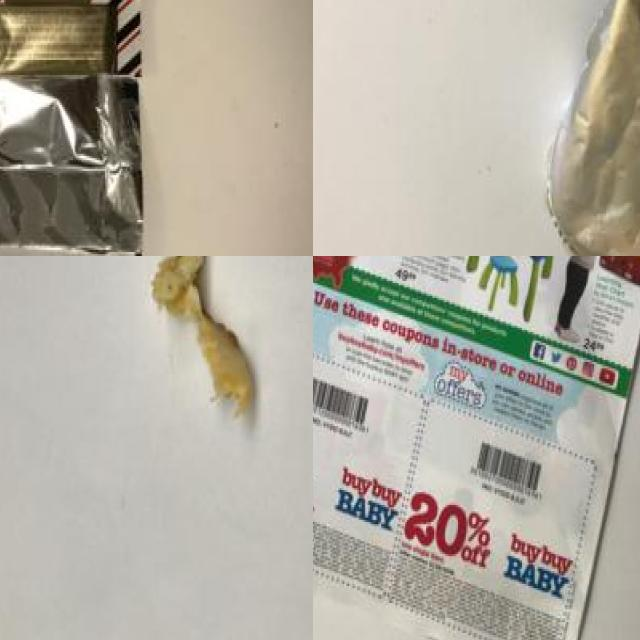compost: (124, 256, 291, 449)
paper: (313, 256, 640, 619)
trash: (0, 0, 182, 256), (541, 0, 640, 256)
